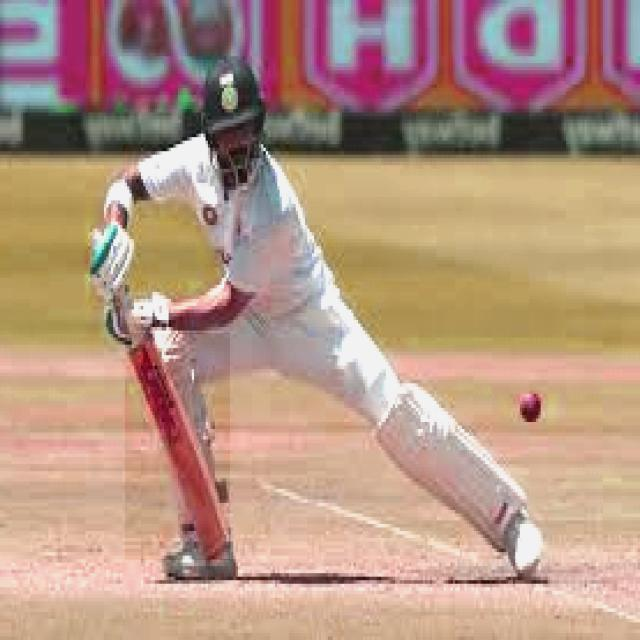bat: (123, 330, 228, 550)
toe: (200, 540, 237, 556)
